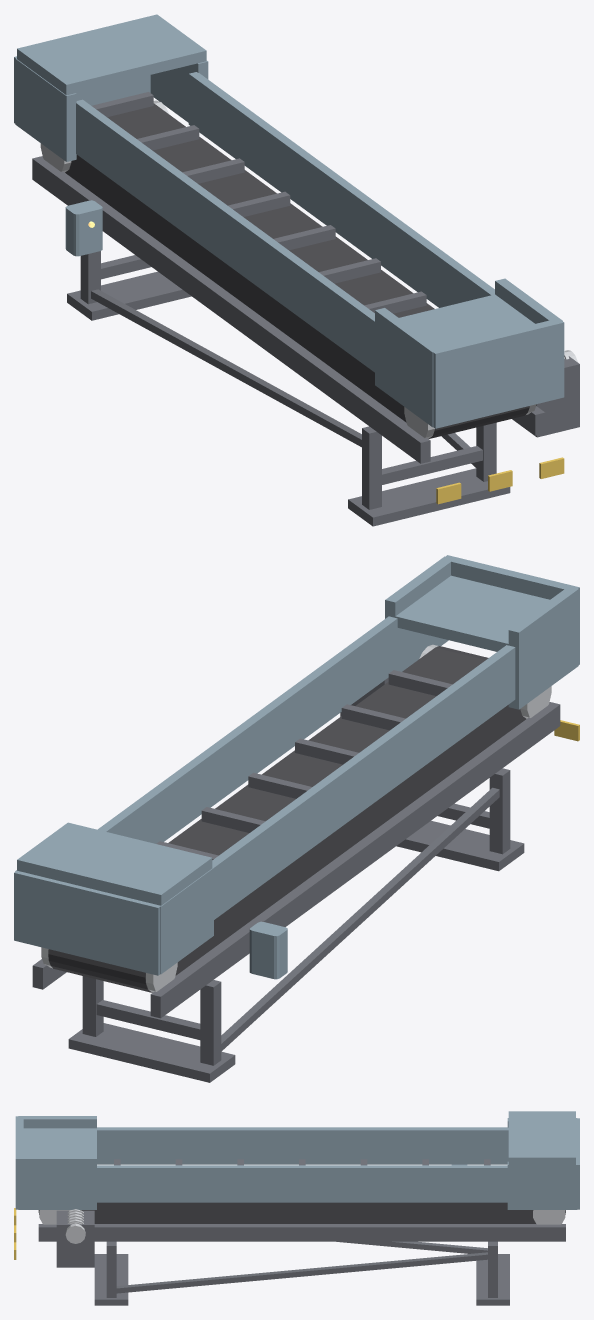
Rendered from animated-mechanisms-kit-belt-conveyor-straight-0805e641__24608.glb.
3 renders of one model, top to bottom at view 1: azimuth 30°, elevation 25°; view 2: azimuth 150°, elevation 25°; view 3: azimuth 270°, elevation 25°, orthographic. The views are drawn at different scales.
Parts seen in each view (by area): view 1: belt-conveyor-straight, cleats; view 2: belt-conveyor-straight, cleats; view 3: belt-conveyor-straight, cleats.
Boxes of the visible parts, x1,y1,x2,y2 form: belt-conveyor-straight: (14, 14, 579, 526); cleats: (91, 92, 426, 313); belt-conveyor-straight: (14, 555, 579, 1082); cleats: (156, 670, 452, 859); belt-conveyor-straight: (14, 1111, 579, 1305); cleats: (114, 1159, 490, 1165).
Bounding box in the file's own units: 1.53 × 1.46 × 5.05.
